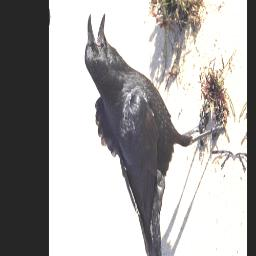Crow: (67, 9, 236, 256)
